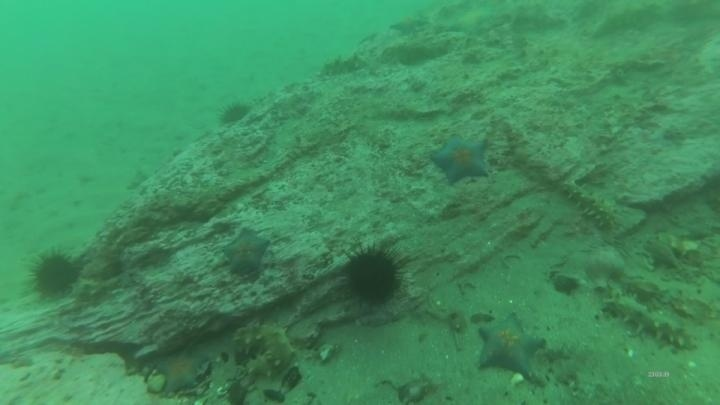echinus: (338, 242, 409, 311), (26, 247, 85, 300), (217, 99, 252, 128)
holothurian: (602, 289, 701, 353), (231, 319, 299, 383), (559, 178, 619, 233), (317, 51, 367, 80)
starfish: (473, 311, 547, 381), (429, 133, 492, 186), (152, 346, 210, 395), (220, 226, 272, 277), (441, 6, 500, 38), (388, 12, 429, 37)
